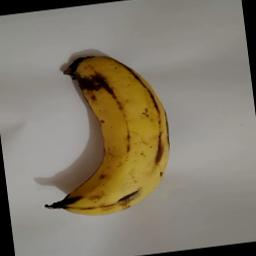Banana Unripe: (32, 48, 179, 220)
